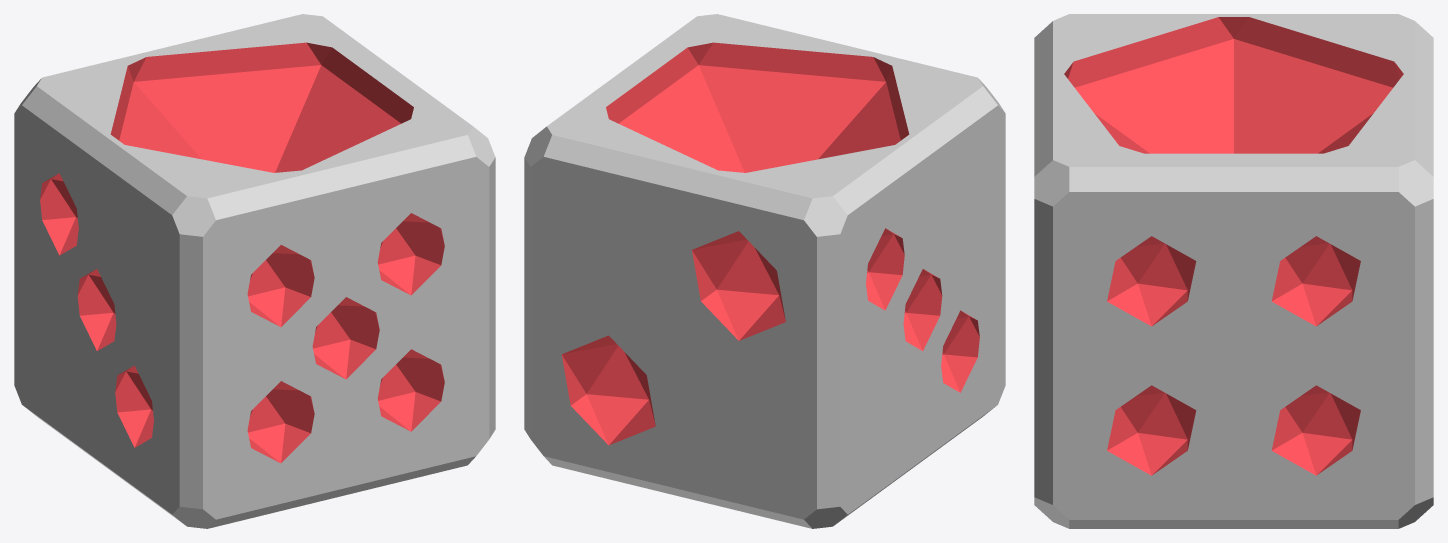
File: cub.fbx
3 renders of one model, left to right at view 1: azimuth 30°, elevation 25°; view 2: azimuth 150°, elevation 25°; view 3: azimuth 270°, elevation 25°, orthographic. The views are drawn at different scales.
Visible parts, largest first — view 1: Cube.007; view 2: Cube.007; view 3: Cube.007.
Part boxes in pixels (x1,y1,x2,y2): Cube.007: (14,14,495,528); Cube.007: (524,14,1005,528); Cube.007: (1034,14,1433,528).
Bounding box in the file's own units: 200 × 200 × 200.
